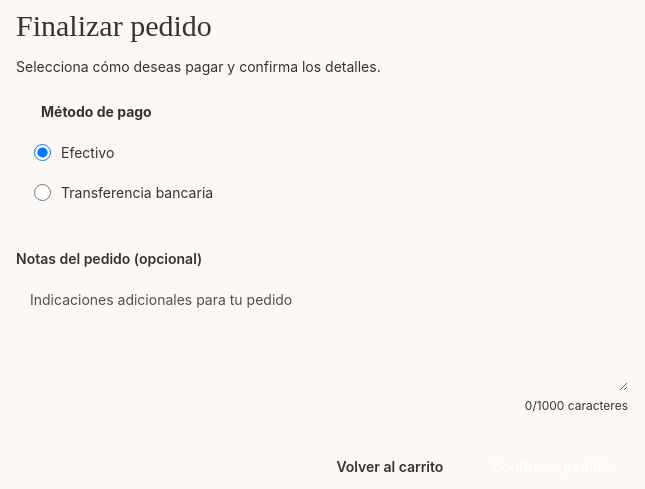
Test case: CheckoutForm › actualiza el contador de notas al escribir
In the text box labelled "Notas del pedido (opcional)": [322, 334] box [16,277,628,391], type "Entregar"
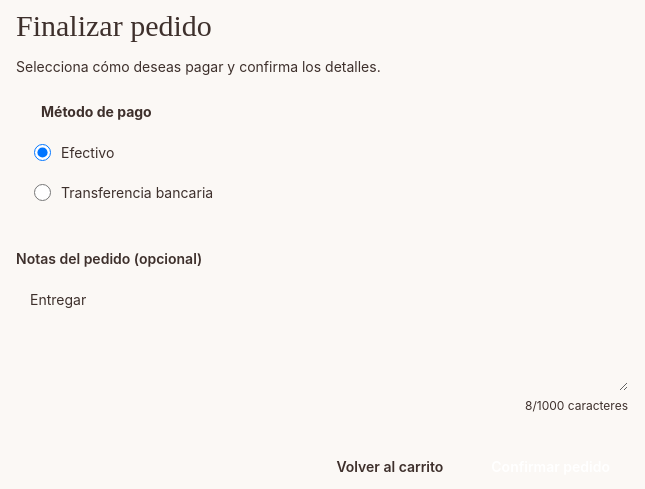
Check: the text "8/1000 caracteres" is shown, box [525,398,628,413]
